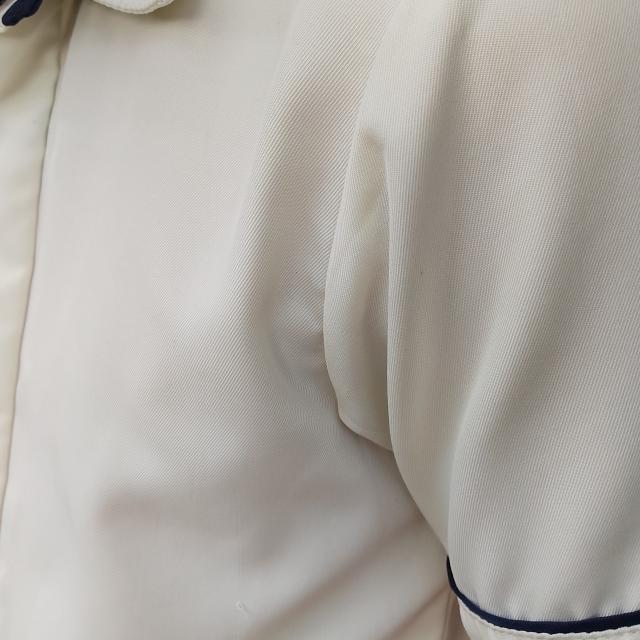education_male_uniform: (9, 3, 640, 640)
